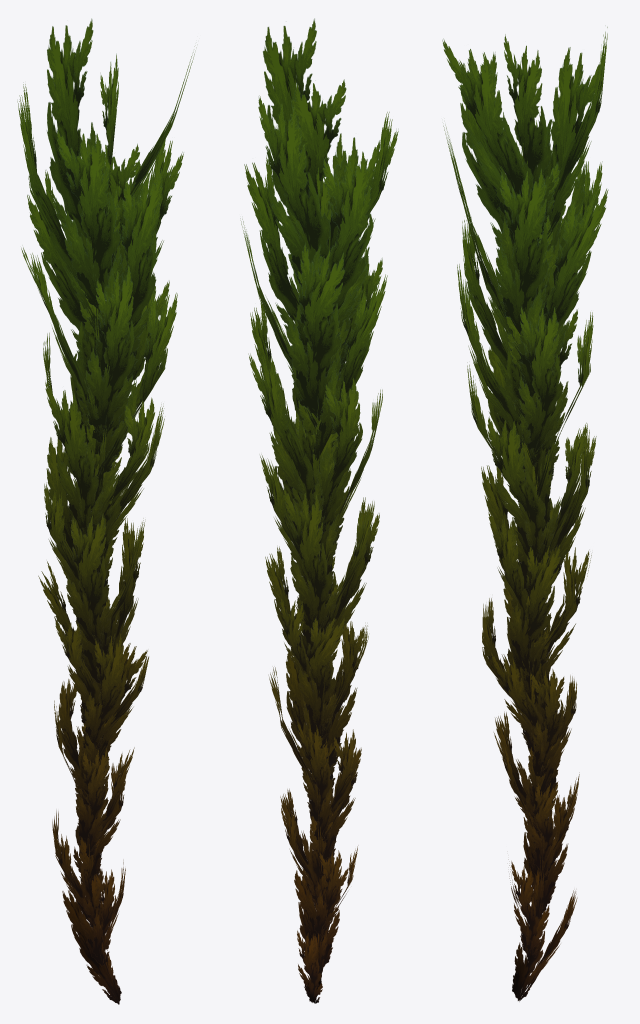
The model's file is SeaWeed01_LOD1_newsmall.glb.
The picture shows the model from 3 angles, left to right: view 1: azimuth 30°, elevation 25°; view 2: azimuth 150°, elevation 25°; view 3: azimuth 270°, elevation 25°; orthographic projection. The views are drawn at different scales.
Parts seen in each view (by area): view 1: SeaWeed01_high; view 2: SeaWeed01_high; view 3: SeaWeed01_high.
Boxes of the visible parts, left/top/right/bottom form: SeaWeed01_high: left=17, top=18, right=196, bottom=1004; SeaWeed01_high: left=240, top=18, right=398, bottom=1003; SeaWeed01_high: left=442, top=27, right=608, bottom=1001.
Bounding box in the file's own units: 0.2202 × 1.24 × 0.2225.
Materials: 1 (1 with a texture image).
